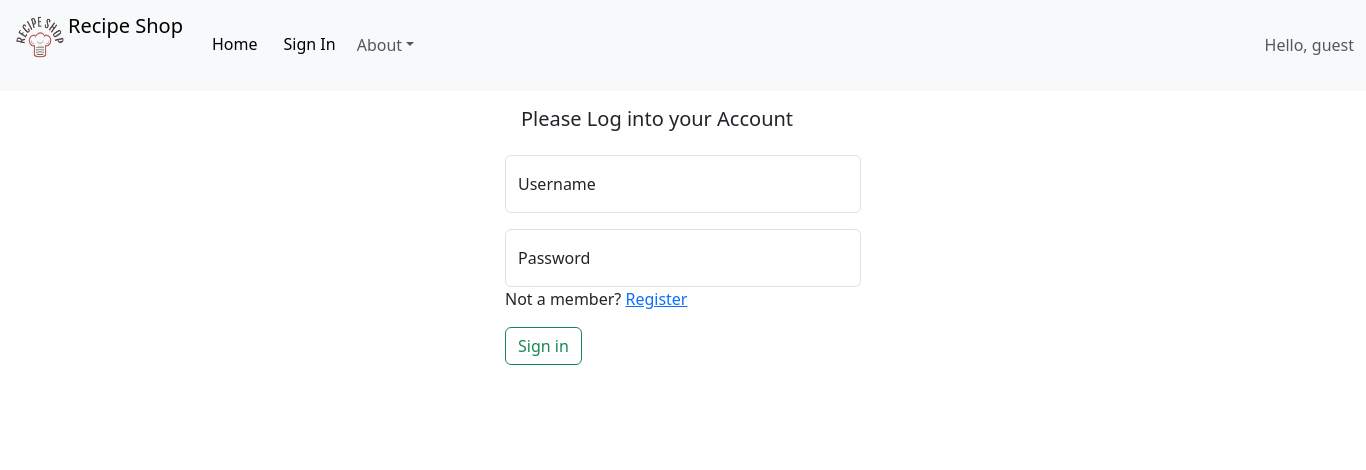
Login page UI functionality › User can login with correct username & password.
Type "Hello123" into the field with test id "l_username". click: (683, 184)
box: [505, 155, 861, 213]
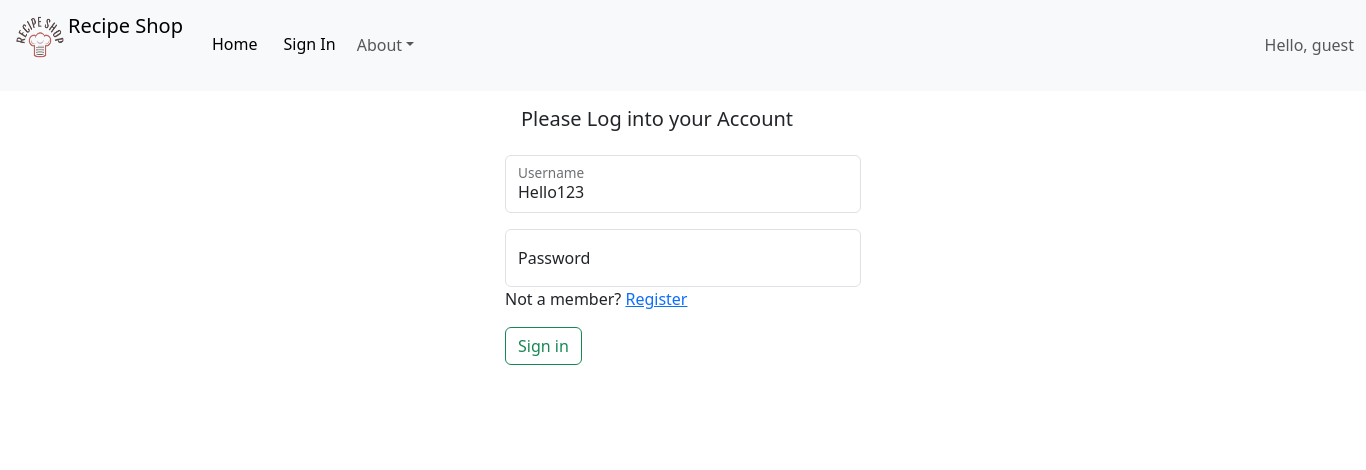
Type "Hello123" into the password field with test id "l_password". click: (683, 258)
box: [505, 229, 861, 287]
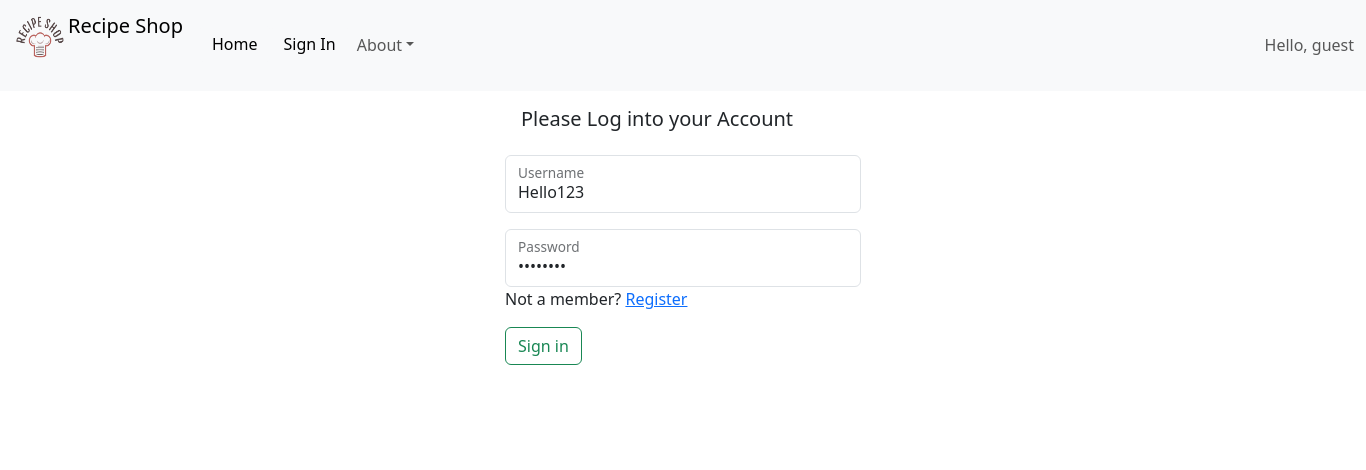
Click the button "Sign in". click: (543, 346)
box: [505, 327, 582, 365]
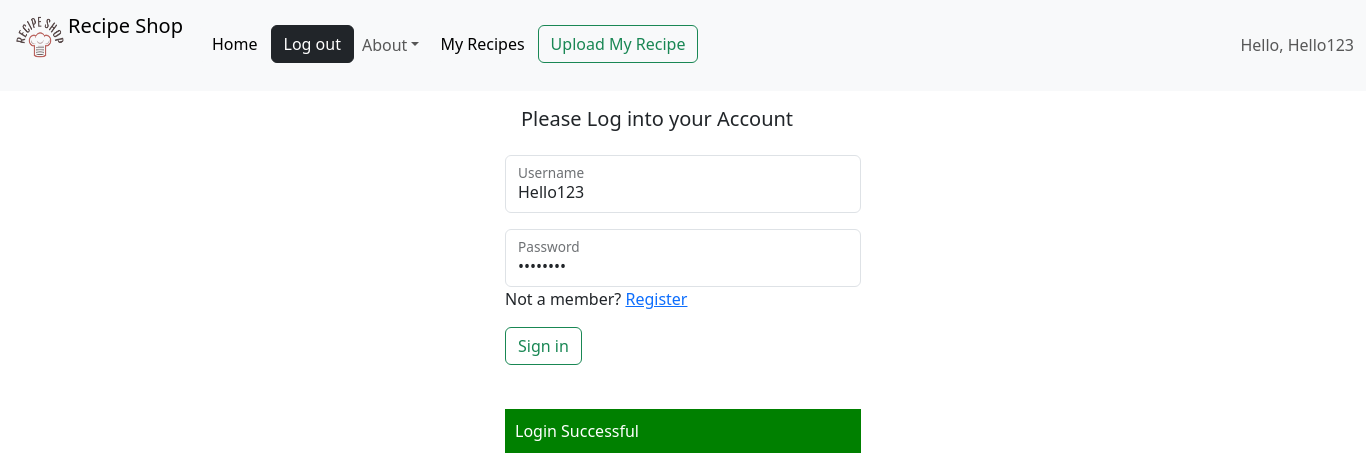
Expected: the text "Login Successful" is shown, [505, 409, 861, 453]
